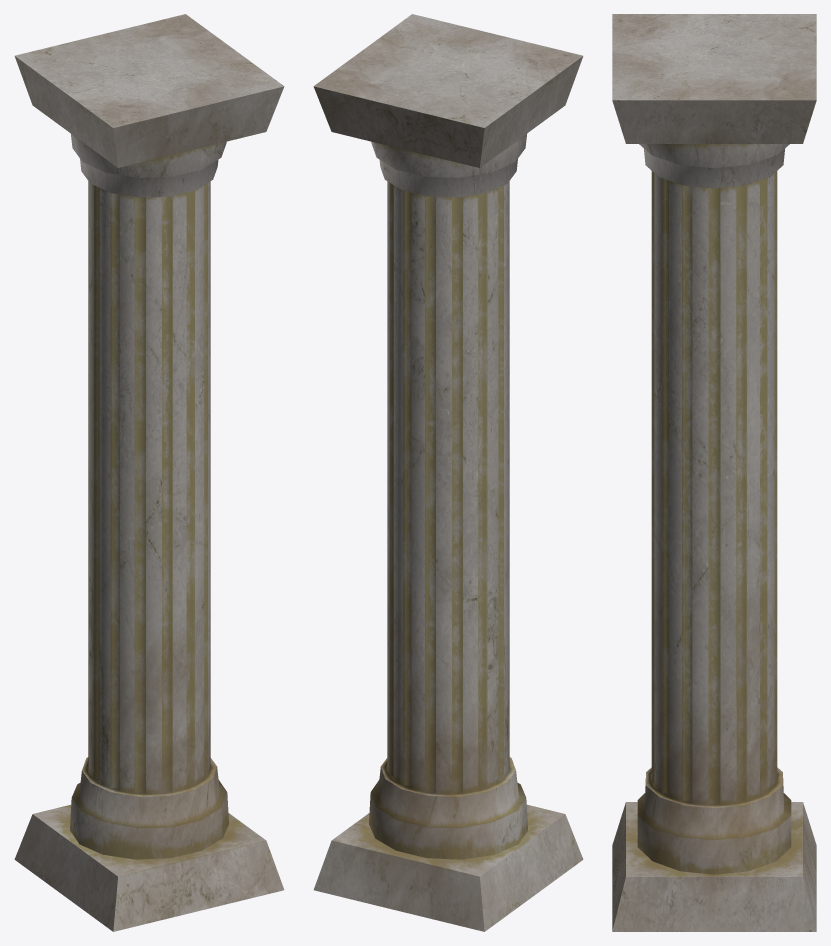
Rendered from Pillar small.fbx.
3 renders of one model, left to right at view 1: azimuth 30°, elevation 25°; view 2: azimuth 150°, elevation 25°; view 3: azimuth 270°, elevation 25°, orthographic. The views are drawn at different scales.
Parts seen in each view (by area): view 1: pillar_skiny; view 2: pillar_skiny; view 3: pillar_skiny.
Part boxes in pixels (x1=…): pillar_skiny: x1=14, y1=14, x2=284, y2=931; pillar_skiny: x1=313, y1=14, x2=583, y2=931; pillar_skiny: x1=612, y1=14, x2=816, y2=931.
Bounding box in the file's own units: 59.76 × 268 × 59.76.
